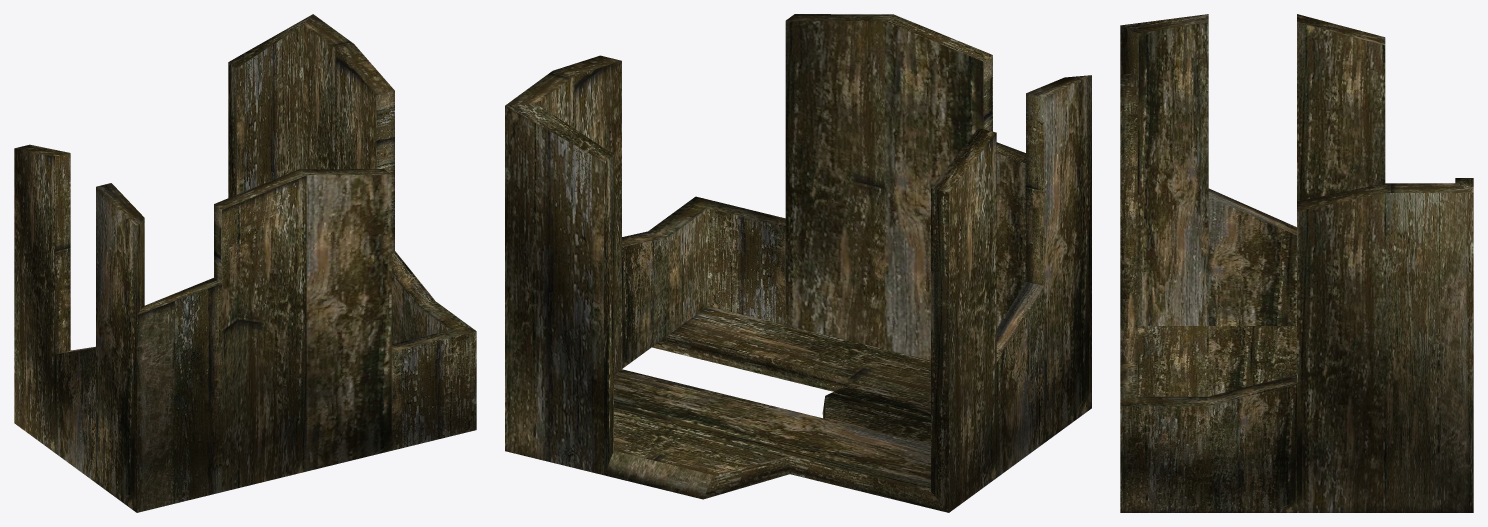
Rendered from NW_HARBOUR_CRATEBROKEN_01.glb.
3 renders of one model, left to right at view 1: azimuth 30°, elevation 25°; view 2: azimuth 150°, elevation 25°; view 3: azimuth 270°, elevation 25°, orthographic. The views are drawn at different scales.
Parts seen in each view (by area): view 1: Mesh; view 2: Mesh; view 3: Mesh.
Boxes of the visible parts, bbox=[...] form: Mesh: bbox=[14, 14, 476, 512]; Mesh: bbox=[505, 14, 1091, 512]; Mesh: bbox=[1120, 14, 1473, 512].
Size of the model in its own units: 1.2 by 1 by 1.
Materials: 2 (2 with a texture image).
